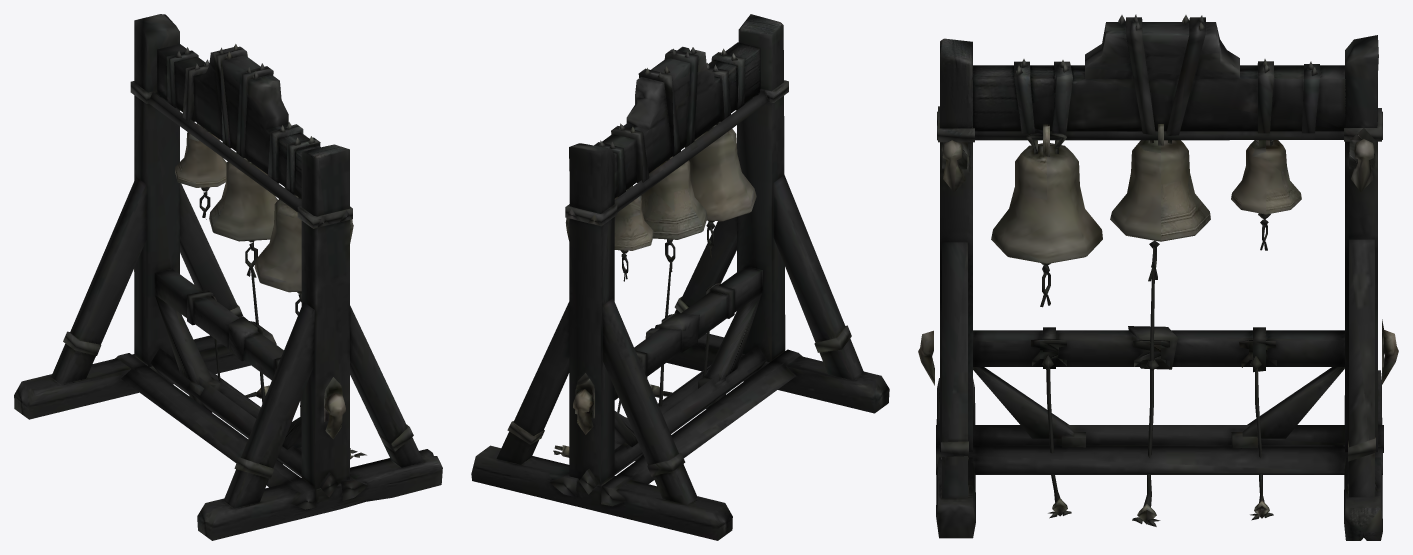
Rendered from bell_frame.glb.
3 renders of one model, left to right at view 1: azimuth 30°, elevation 25°; view 2: azimuth 150°, elevation 25°; view 3: azimuth 270°, elevation 25°, orthographic. The views are drawn at different scales.
Parts seen in each view (by area): view 1: tripo_node_0dc562c8-4a68-4fc5-b817-d41a317c9dd8; view 2: tripo_node_0dc562c8-4a68-4fc5-b817-d41a317c9dd8; view 3: tripo_node_0dc562c8-4a68-4fc5-b817-d41a317c9dd8.
Part boxes in pixels (x1,y1,x2,y2): tripo_node_0dc562c8-4a68-4fc5-b817-d41a317c9dd8: (14, 14, 442, 540); tripo_node_0dc562c8-4a68-4fc5-b817-d41a317c9dd8: (471, 14, 889, 540); tripo_node_0dc562c8-4a68-4fc5-b817-d41a317c9dd8: (918, 14, 1398, 540).
Bounding box in the file's own units: 0.666 × 0.998 × 0.9394.
1 material, 1 textured.
